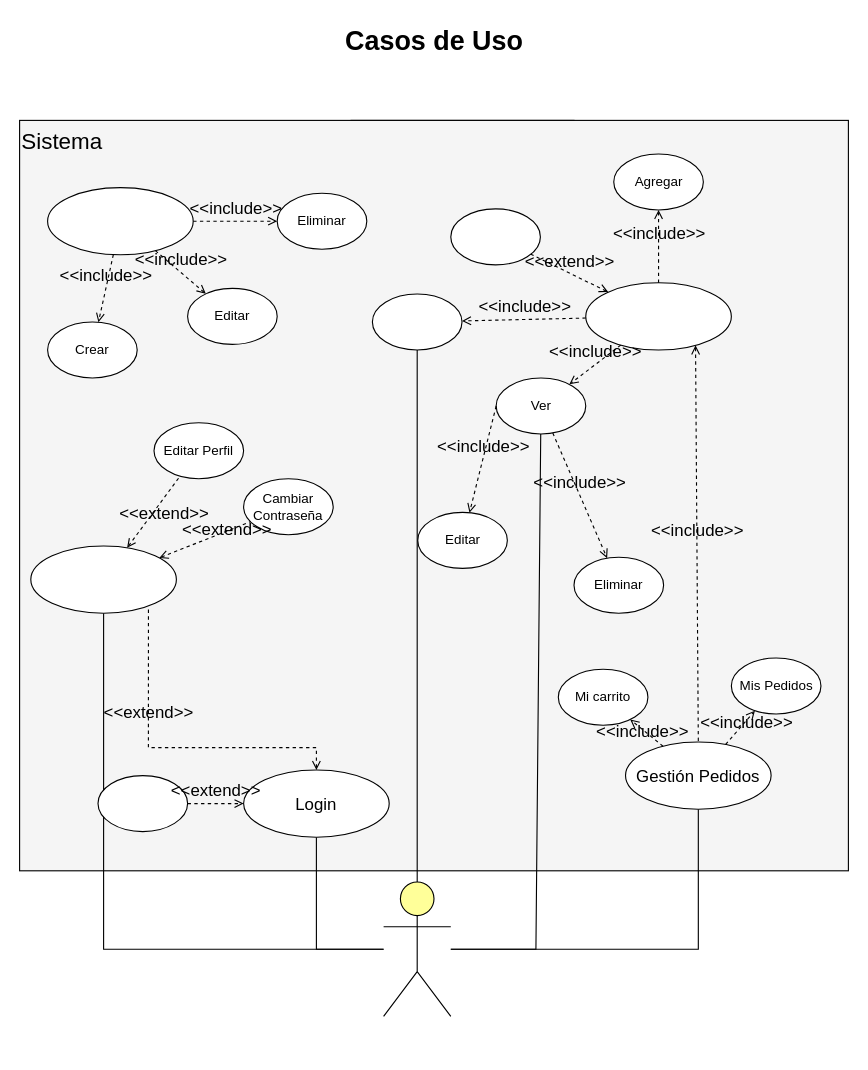
Some shapes in this 868 by 1070 pixel diagram are drawn without their labels. Here are the shapes that lost their labels. From the top down, the centre of each, then its label:
[119,220]: Gestión Administrativa
[495,236]: Mis Productos
[416,321]: Inicio
[658,316]: Gestión Productos
[103,579]: Gestión Perfil
[142,803]: Registro
[416,948]: Cliente
